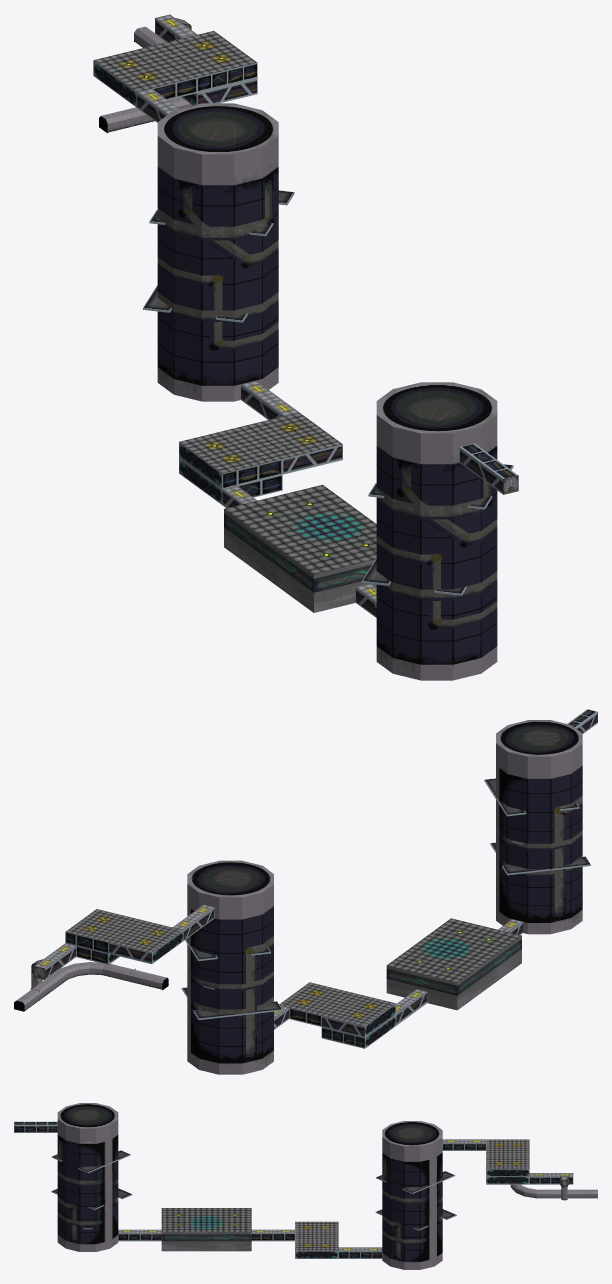
Rendered from RoboticoreLevel.fbx.
3 renders of one model, top to bottom at view 1: azimuth 30°, elevation 25°; view 2: azimuth 150°, elevation 25°; view 3: azimuth 270°, elevation 25°, orthographic. The views are drawn at different scales.
Visible parts, largest first — view 1: MinorRooms; view 2: MinorRooms; view 3: MinorRooms.
Boxes of the visible parts, x1,y1,x2,y2 form: MinorRooms: [93, 14, 518, 680]; MinorRooms: [14, 709, 597, 1074]; MinorRooms: [14, 1103, 597, 1269].
Bounding box in the file's own units: 12054 × 9995 × 40249.
